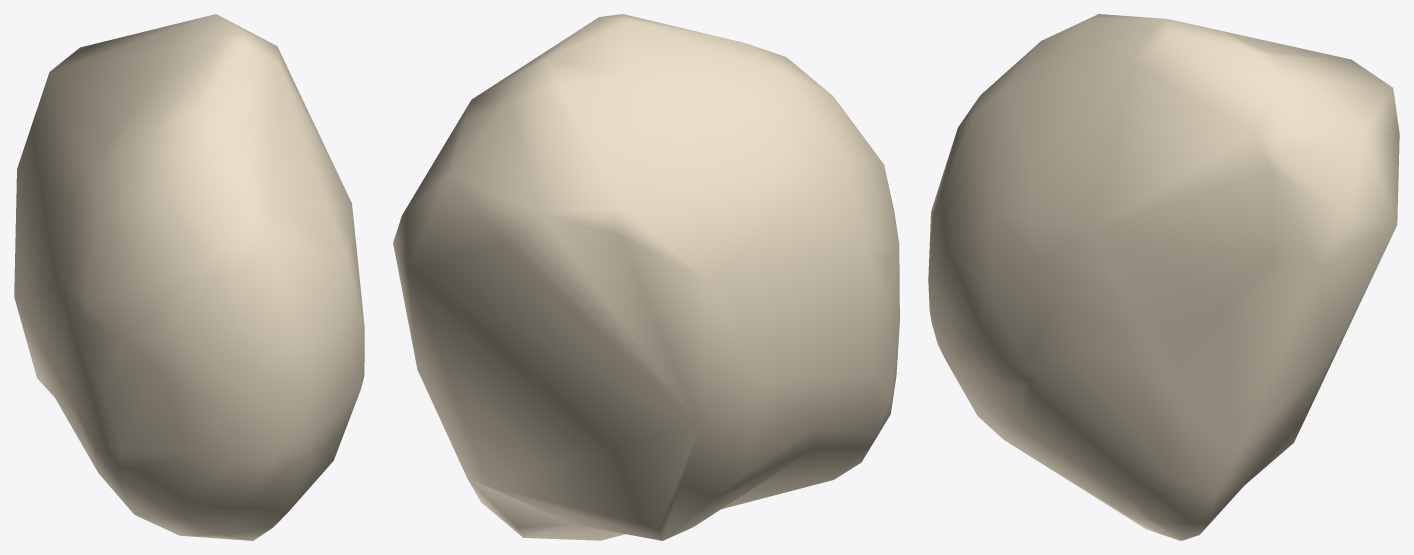
Rendered from pisiform-bone-r.glb.
The picture shows the model from 3 angles, left to right: view 1: azimuth 30°, elevation 25°; view 2: azimuth 150°, elevation 25°; view 3: azimuth 270°, elevation 25°; orthographic projection. The views are drawn at different scales.
Visible parts, largest first — view 1: Pisiform bone.r; view 2: Pisiform bone.r; view 3: Pisiform bone.r.
Part boxes in pixels (bbox=[...]): Pisiform bone.r: bbox=[14, 14, 364, 540]; Pisiform bone.r: bbox=[393, 14, 899, 540]; Pisiform bone.r: bbox=[928, 14, 1399, 540].
Bounding box in the file's own units: 0.00874 × 0.0122 × 0.0108.
